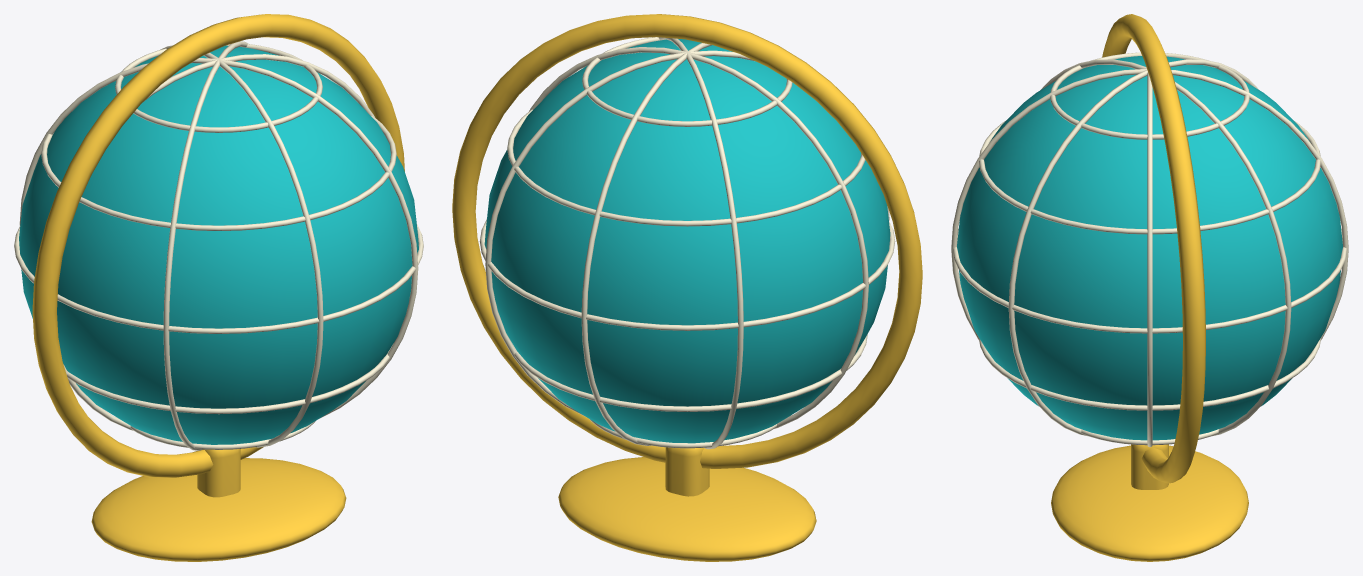
The model's file is globe.glb.
The picture shows the model from 3 angles, left to right: view 1: azimuth 30°, elevation 25°; view 2: azimuth 150°, elevation 25°; view 3: azimuth 270°, elevation 25°; orthographic projection. The views are drawn at different scales.
Parts seen in each view (by area): view 1: Ocean, Globe meridian frame, Base, Meridian.003, Parallel.002, Meridian.002, Meridian.001, Parallel.003, Parallel.001, Parallel.004, Meridian, Stand (+1 smaller); view 2: Ocean, Globe meridian frame, Base, Meridian, Meridian.001, Parallel.002, Meridian.002, Meridian.003, Parallel.003, Parallel.001, Stand, Parallel.004 (+1 smaller); view 3: Ocean, Base, Globe meridian frame, Meridian.002, Meridian.003, Meridian.001, Parallel.002, Parallel.003, Meridian, Parallel.001, Parallel.004, Stand (+1 smaller).
Boxes of the visible parts, left/top/right/bottom form: Ocean: left=19, top=45, right=418, bottom=444; Globe meridian frame: left=32, top=14, right=404, bottom=477; Base: left=91, top=458, right=346, bottom=561; Meridian.003: left=19, top=58, right=418, bottom=418; Parallel.002: left=14, top=223, right=423, bottom=333; Meridian.002: left=160, top=45, right=323, bottom=447; Meridian.001: left=163, top=41, right=248, bottom=450; Parallel.003: left=41, top=116, right=396, bottom=230; Parallel.001: left=67, top=345, right=392, bottom=414; Parallel.004: left=115, top=44, right=322, bottom=132; Meridian: left=63, top=54, right=374, bottom=430; Stand: left=197, top=449, right=240, bottom=497; Ocean: left=484, top=39, right=890, bottom=443; Globe meridian frame: left=452, top=14, right=922, bottom=468; Base: left=558, top=457, right=816, bottom=561; Meridian: left=529, top=47, right=868, bottom=428; Meridian.001: left=485, top=50, right=889, bottom=416; Parallel.002: left=479, top=219, right=895, bottom=330; Meridian.002: left=581, top=43, right=711, bottom=445; Meridian.003: left=658, top=37, right=743, bottom=449; Parallel.003: left=507, top=109, right=865, bottom=226; Parallel.001: left=511, top=334, right=867, bottom=411; Stand: left=665, top=447, right=709, bottom=496; Parallel.004: left=582, top=37, right=792, bottom=126; Ocean: left=957, top=56, right=1342, bottom=440; Base: left=1051, top=445, right=1248, bottom=561; Globe meridian frame: left=1102, top=14, right=1205, bottom=483; Meridian.002: left=951, top=68, right=1348, bottom=340; Meridian.003: left=1008, top=59, right=1258, bottom=436; Meridian.001: left=1041, top=59, right=1291, bottom=436; Parallel.002: left=953, top=229, right=1346, bottom=333; Parallel.003: left=979, top=121, right=1320, bottom=234; Meridian: left=1147, top=72, right=1152, bottom=447; Parallel.001: left=979, top=338, right=1320, bottom=410; Parallel.004: left=1050, top=52, right=1249, bottom=139; Stand: left=1131, top=444, right=1168, bottom=489.
Size of the model in its own units: 1.96 by 2.29 by 1.69.
